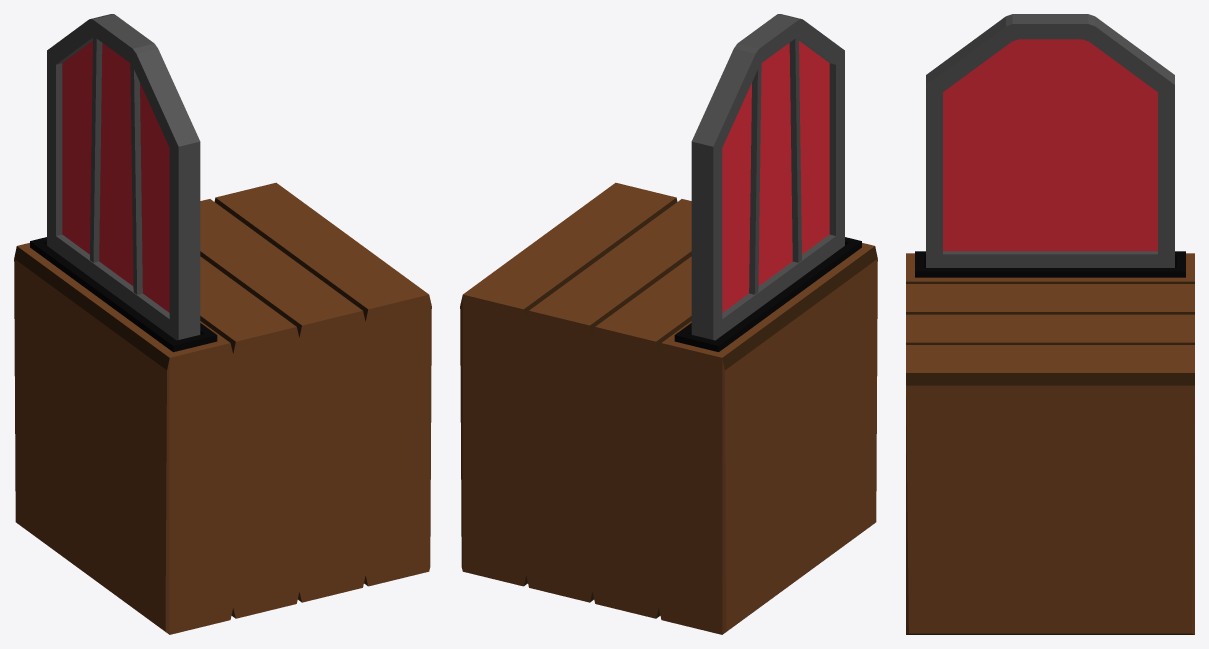
The model's file is PuertaYBasePuerta.fbx.
3 views of the same model, side by side, from view 1: azimuth 30°, elevation 25°; view 2: azimuth 150°, elevation 25°; view 3: azimuth 270°, elevation 25° (orthographic). The views are drawn at different scales.
Parts seen in each view (by area): view 1: TablasPiso.002, TablasPiso.003; view 2: TablasPiso.002, TablasPiso.003; view 3: TablasPiso.002, TablasPiso.003.
Part boxes in pixels (box(x1,y1,x2,y2)): TablasPiso.002: box(14, 182, 431, 634); TablasPiso.003: box(47, 14, 200, 340); TablasPiso.002: box(460, 182, 877, 634); TablasPiso.003: box(691, 14, 844, 340); TablasPiso.002: box(906, 251, 1194, 634); TablasPiso.003: box(926, 14, 1174, 267).
Size of the model in its own units: 200 by 390 by 200.
